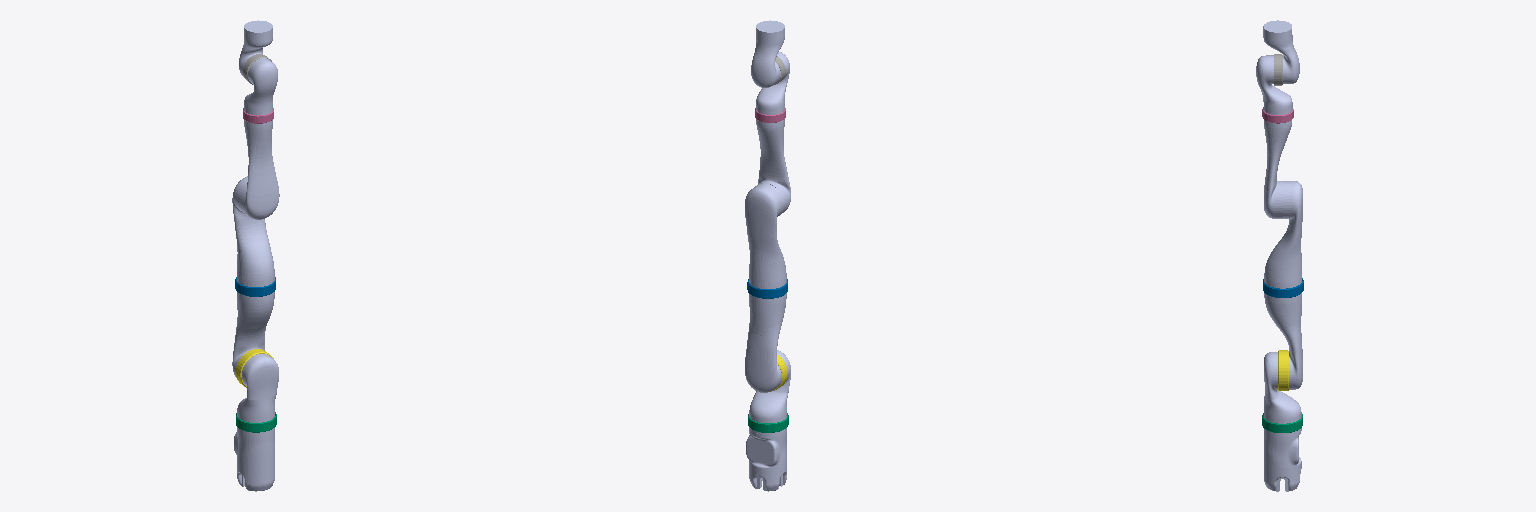
URDF robot description (j2s7s300_arm):
<?xml version="1.0"?>
<!-- =================================================================================== -->
<!-- |    This document is a hand edited version of the output                         | -->
<!-- |    autogenerated by xacro from j2s7s300_standalone.xacro                        | -->
<!-- =================================================================================== -->
<!-- j2s7s300 refers to jaco v2 7DOF spherical 3fingers -->
<robot name="j2s7s300_arm">
  <!-- Director seems to really want a link named "base", so this is
       renamed from "root" -->
  <link name="base">
    <visual>
      <origin rpy="0 0 0" xyz="0 0 0"/>
      <geometry>
        <sphere radius="0"/>
      </geometry>
      <!--<material name="Black" /> -->
    </visual>
    <collision>
      <origin rpy="0 0 0" xyz="0 0 0"/>
      <geometry>
        <sphere radius="0"/>
      </geometry>
    </collision>
  </link>
  <link name="j2s7s300_link_base">
    <visual>
      <geometry>
        <mesh filename="package://drake/manipulation/models/jaco_description/meshes/base.obj"/>
      </geometry>
      <material name="carbon_fiber">
        <color rgba="0.792156862745098 0.819607843137255 0.933333333333333 1"/>
      </material>
    </visual>
    <collision>
      <origin rpy="0 0 0" xyz="0 0 0.05"/>
      <geometry>
        <sphere radius="0.045"/>
      </geometry>
    </collision>
    <collision>
      <origin rpy="0 0 0" xyz="0 0 0.08"/>
      <geometry>
        <sphere radius="0.045"/>
      </geometry>
    </collision>
    <collision>
      <origin rpy="0 0 0" xyz="0 0 0.11"/>
      <geometry>
        <sphere radius="0.045"/>
      </geometry>
    </collision>
    <collision>
      <origin rpy="0 0 0" xyz="0 0 0.14"/>
      <geometry>
        <sphere radius="0.045"/>
      </geometry>
    </collision>
    <collision>
      <origin rpy="0 0 0" xyz="0 0 0.17"/>
      <geometry>
        <sphere radius="0.045"/>
      </geometry>
    </collision>
    <inertial>
      <mass value="0.46784"/>
      <origin rpy="0 0 0" xyz="0 0 0.1255"/>
      <inertia ixx="0.000951270861568" ixy="0" ixz="0" iyy="0.000951270861568" iyz="0" izz="0.000374272"/>
    </inertial>
  </link>
  <joint name="j2s7s300_joint_base" type="fixed">
    <parent link="base"/>
    <child link="j2s7s300_link_base"/>
    <axis xyz="0 0 0"/>
    <limit effort="2000" lower="0" upper="0" velocity="1"/>
    <origin rpy="0 0 0" xyz="0 0 0"/>
    <dynamics damping="0.0" friction="0.0"/>
  </joint>
  <link name="j2s7s300_link_1">
    <visual>
      <geometry>
        <mesh filename="package://drake/manipulation/models/jaco_description/meshes/shoulder.obj"/>
      </geometry>
      <material name="carbon_fiber">
        <color rgba="0.792156862745098 0.819607843137255 0.933333333333333 1"/>
      </material>
    </visual>
    <visual>
      <geometry>
        <mesh filename="package://drake/manipulation/models/jaco_description/meshes/ring_big.obj"/>
      </geometry>
    </visual>
    <collision>
      <origin rpy="0 0 0" xyz="0.0 -0.025 -0.14"/>
      <geometry>
        <sphere radius="0.02"/>
      </geometry>
    </collision>
    <collision>
      <origin rpy="0 0 0" xyz="0.025 -0.025 -0.12"/>
      <geometry>
        <sphere radius="0.02"/>
      </geometry>
    </collision>
    <collision>
      <origin rpy="0 0 0" xyz="-0.025 -0.025 -0.12"/>
      <geometry>
        <sphere radius="0.02"/>
      </geometry>
    </collision>
    <collision>
      <origin rpy="0 0 0" xyz="0 0 -0.12"/>
      <geometry>
        <sphere radius="0.045"/>
      </geometry>
    </collision>
    <collision>
      <origin rpy="0 0 0" xyz="-0.02 -0.02 -0.05"/>
      <geometry>
        <sphere radius="0.02"/>
      </geometry>
    </collision>
    <collision>
      <origin rpy="0 0 0" xyz="0.0 -0.025 -0.05"/>
      <geometry>
        <sphere radius="0.02"/>
      </geometry>
    </collision>
    <collision>
      <origin rpy="0 0 0" xyz="0.02 -0.02 -0.05"/>
      <geometry>
        <sphere radius="0.02"/>
      </geometry>
    </collision>
    <inertial>
      <mass value="0.7477"/>
      <origin xyz="0 -0.002 -0.0605"/>
      <inertia ixx="0.00152031725204" ixy="0" ixz="0" iyy="0.00152031725204" iyz="0" izz="0.00059816"/>
    </inertial>
  </link>
  <joint name="j2s7s300_joint_1" type="continuous">
    <parent link="j2s7s300_link_base"/>
    <child link="j2s7s300_link_1"/>
    <axis xyz="0 0 1"/>
    <!-- The upper and lower limits below are set based on the range of +/-
         10000 degrees listed in the "JACO2 Spherical 7 DOF Advanced
         specification guide" from Kinova.  The velocity limit is set from
         "Recommended maximum actuators utilization" in the same document. -->
    <limit effort="2000" lower="-174.532925" upper="174.532925" velocity="0.63"/>
    <origin rpy="0 3.14159265359 0" xyz="0 0 0.15675"/>
    <dynamics damping="0.0" friction="0.0"/>
  </joint>
  <transmission name="j2s7s300_joint_1_trans">
    <type>transmission_interface/SimpleTransmission</type>
    <joint name="j2s7s300_joint_1">
      <hardwareInterface>EffortJointInterface</hardwareInterface>
    </joint>
    <actuator name="j2s7s300_joint_1_actuator">
      <hardwareInterface>EffortJointInterface</hardwareInterface>
    </actuator>
  </transmission>
  <link name="j2s7s300_link_2">
    <visual>
      <geometry>
        <mesh filename="package://drake/manipulation/models/jaco_description/meshes/arm_half_1.obj"/>
      </geometry>
      <material name="carbon_fiber">
        <color rgba="0.792156862745098 0.819607843137255 0.933333333333333 1"/>
      </material>
    </visual>
    <visual>
      <geometry>
        <mesh filename="package://drake/manipulation/models/jaco_description/meshes/ring_big.obj"/>
      </geometry>
    </visual>
    <collision>
      <origin rpy="0 0 0" xyz="0.025 -0.00 -0.025"/>
      <geometry>
        <sphere radius="0.02"/>
      </geometry>
    </collision>
    <collision>
      <origin rpy="0 0 0" xyz="-0.025 -0.00 -0.025"/>
      <geometry>
        <sphere radius="0.02"/>
      </geometry>
    </collision>
    <collision>
      <origin rpy="0 0 0" xyz="0.02 -0.09 -0.02"/>
      <geometry>
        <sphere radius="0.02"/>
      </geometry>
    </collision>
    <collision>
      <origin rpy="0 0 0" xyz="-0.02 -0.09 -0.02"/>
      <geometry>
        <sphere radius="0.02"/>
      </geometry>
    </collision>
    <collision>
      <origin rpy="0 0 0" xyz="0.015 -0.11 -0.015"/>
      <geometry>
        <sphere radius="0.025"/>
      </geometry>
    </collision>
    <collision>
      <origin rpy="0 0 0" xyz="-0.015 -0.11 -0.015"/>
      <geometry>
        <sphere radius="0.025"/>
      </geometry>
    </collision>
    <collision>
      <origin rpy="0 0 0" xyz="0 -0.13 -0.01"/>
      <geometry>
        <sphere radius="0.035"/>
      </geometry>
    </collision>
    <collision>
      <origin rpy="0 0 0" xyz="0 -0.15 -0.005"/>
      <geometry>
        <sphere radius="0.04"/>
      </geometry>
    </collision>
    <collision>
      <origin rpy="0 0 0" xyz="0 -0.17 -0"/>
      <geometry>
        <sphere radius="0.045"/>
      </geometry>
    </collision>
    <collision>
      <origin rpy="0 0 0" xyz="0 -0.2 -0"/>
      <geometry>
        <sphere radius="0.045"/>
      </geometry>
    </collision>
    <inertial>
      <mass value="0.8447"/>
      <origin xyz="0 -0.103563213 0"/>
      <inertia ixx="0.00247073761701" ixy="0" ixz="0" iyy="0.000380115" iyz="0" izz="0.00247073761701"/>
    </inertial>
  </link>
  <joint name="j2s7s300_joint_2" type="revolute">
    <parent link="j2s7s300_link_1"/>
    <child link="j2s7s300_link_2"/>
    <axis xyz="0 0 1"/>
    <limit effort="2000" lower="0.523598775598" upper="5.75958653158" velocity="0.63"/>
    <origin rpy="-1.57079632679 0 3.14159265359" xyz="0 0.0016 -0.11875"/>
    <dynamics damping="0.0" friction="0.0"/>
  </joint>
  <transmission name="j2s7s300_joint_2_trans">
    <type>transmission_interface/SimpleTransmission</type>
    <joint name="j2s7s300_joint_2">
      <hardwareInterface>EffortJointInterface</hardwareInterface>
    </joint>
    <actuator name="j2s7s300_joint_2_actuator">
      <hardwareInterface>EffortJointInterface</hardwareInterface>
    </actuator>
  </transmission>
  <link name="j2s7s300_link_3">
    <visual>
      <geometry>
        <mesh filename="package://drake/manipulation/models/jaco_description/meshes/arm_half_2.obj"/>
      </geometry>
      <material name="carbon_fiber">
        <color rgba="0.792156862745098 0.819607843137255 0.933333333333333 1"/>
      </material>
    </visual>
    <visual>
      <geometry>
        <mesh filename="package://drake/manipulation/models/jaco_description/meshes/ring_big.obj"/>
      </geometry>
    </visual>
    <collision>
      <origin rpy="0 0 0" xyz="0.0 0.028 -0.232"/>
      <geometry>
        <sphere radius="0.015"/>
      </geometry>
    </collision>
    <collision>
      <origin rpy="0 0 0" xyz="0.03 0.03 -0.20"/>
      <geometry>
        <sphere radius="0.015"/>
      </geometry>
    </collision>
    <collision>
      <origin rpy="0 0 0" xyz="-0.03 0.03 -0.20"/>
      <geometry>
        <sphere radius="0.015"/>
      </geometry>
    </collision>
    <collision>
      <origin rpy="0 0 0" xyz="0.025 0.025 -0.13"/>
      <geometry>
        <sphere radius="0.015"/>
      </geometry>
    </collision>
    <collision>
      <origin rpy="0 0 0" xyz="-0.025 0.025 -0.13"/>
      <geometry>
        <sphere radius="0.015"/>
      </geometry>
    </collision>
    <collision>
      <origin rpy="0 0 0" xyz="0.02 0.02 -0.11"/>
      <geometry>
        <sphere radius="0.02"/>
      </geometry>
    </collision>
    <collision>
      <origin rpy="0 0 0" xyz="-0.02 0.02 -0.11"/>
      <geometry>
        <sphere radius="0.02"/>
      </geometry>
    </collision>
    <collision>
      <origin rpy="0 0 0" xyz="0.01 0.01 -0.08"/>
      <geometry>
        <sphere radius="0.03"/>
      </geometry>
    </collision>
    <collision>
      <origin rpy="0 0 0" xyz="-0.01 0.01 -0.08"/>
      <geometry>
        <sphere radius="0.03"/>
      </geometry>
    </collision>
    <collision>
      <origin rpy="0 0 0" xyz="0 0.0 -0.02"/>
      <geometry>
        <sphere radius="0.045"/>
      </geometry>
    </collision>
    <collision>
      <origin rpy="0 0 0" xyz="0 0.0 -0.05"/>
      <geometry>
        <sphere radius="0.045"/>
      </geometry>
    </collision>
    <inertial>
      <mass value="0.8447"/>
      <origin xyz="0 0 -0.1022447445"/>
      <inertia ixx="0.00247073761701" ixy="0" ixz="0" iyy="0.00247073761701" iyz="0" izz="0.000380115"/>
    </inertial>
  </link>
  <joint name="j2s7s300_joint_3" type="continuous">
    <parent link="j2s7s300_link_2"/>
    <child link="j2s7s300_link_3"/>
    <axis xyz="0 0 1"/>
    <limit effort="2000" lower="-174.532925" upper="174.532925" velocity="0.63"/>
    <origin rpy="-1.57079632679 0 0" xyz="0 -0.205 0"/>
    <dynamics damping="0.0" friction="0.0"/>
  </joint>
  <transmission name="j2s7s300_joint_3_trans">
    <type>transmission_interface/SimpleTransmission</type>
    <joint name="j2s7s300_joint_3">
      <hardwareInterface>EffortJointInterface</hardwareInterface>
    </joint>
    <actuator name="j2s7s300_joint_3_actuator">
      <hardwareInterface>EffortJointInterface</hardwareInterface>
    </actuator>
  </transmission>
  <link name="j2s7s300_link_4">
    <visual>
      <geometry>
        <mesh filename="package://drake/manipulation/models/jaco_description/meshes/forearm.obj"/>
      </geometry>
      <material name="carbon_fiber">
        <color rgba="0.792156862745098 0.819607843137255 0.933333333333333 1"/>
      </material>
    </visual>
    <visual>
      <geometry>
        <mesh filename="package://drake/manipulation/models/jaco_description/meshes/ring_small.obj"/>
      </geometry>
    </visual>
    <collision>
      <origin rpy="0 0 0" xyz="0 0.0 -0.0"/>
      <geometry>
        <sphere radius="0.045"/>
      </geometry>
    </collision>
    <collision>
      <origin rpy="0 0 0" xyz="0.03 0.0 -0.03"/>
      <geometry>
        <sphere radius="0.015"/>
      </geometry>
    </collision>
    <collision>
      <origin rpy="0 0 0" xyz="-0.03 0.0 -0.03"/>
      <geometry>
        <sphere radius="0.015"/>
      </geometry>
    </collision>
    <collision>
      <origin rpy="0 0 0" xyz="0.015 0.09 -0.02"/>
      <geometry>
        <sphere radius="0.015"/>
      </geometry>
    </collision>
    <collision>
      <origin rpy="0 0 0" xyz="-0.015 0.09 -0.02"/>
      <geometry>
        <sphere radius="0.015"/>
      </geometry>
    </collision>
    <collision>
      <origin rpy="0 0 0" xyz="0.015 0.11 -0.02"/>
      <geometry>
        <sphere radius="0.015"/>
      </geometry>
    </collision>
    <collision>
      <origin rpy="0 0 0" xyz="-0.015 0.11 -0.02"/>
      <geometry>
        <sphere radius="0.015"/>
      </geometry>
    </collision>
    <collision>
      <origin rpy="0 0 0" xyz="0.015 0.13 -0.02"/>
      <geometry>
        <sphere radius="0.015"/>
      </geometry>
    </collision>
    <collision>
      <origin rpy="0 0 0" xyz="-0.015 0.13 -0.02"/>
      <geometry>
        <sphere radius="0.015"/>
      </geometry>
    </collision>
    <collision>
      <origin rpy="0 0 0" xyz="0 0.15 -0.0125"/>
      <geometry>
        <sphere radius="0.03"/>
      </geometry>
    </collision>
    <collision>
      <origin rpy="0 0 0" xyz="0 0.18 -0.0125"/>
      <geometry>
        <sphere radius="0.035"/>
      </geometry>
    </collision>
    <collision>
      <origin rpy="0 0 0" xyz="0 0.21 -0.0125"/>
      <geometry>
        <sphere radius="0.035"/>
      </geometry>
    </collision>
    <inertial>
      <mass value="0.6763"/>
      <origin xyz="0 0.081 -0.0086"/>
      <inertia ixx="0.00142022431908" ixy="0" ixz="0" iyy="0.000304335" iyz="0" izz="0.00142022431908"/>
    </inertial>
  </link>
  <joint name="j2s7s300_joint_4" type="revolute">
    <parent link="j2s7s300_link_3"/>
    <child link="j2s7s300_link_4"/>
    <axis xyz="0 0 1"/>
    <limit effort="2000" lower="0.523598775598" upper="5.75958653158" velocity="0.63"/>
    <origin rpy="1.57079632679 0 3.14159265359" xyz="0 0 -0.205"/>
    <dynamics damping="0.0" friction="0.0"/>
  </joint>
  <transmission name="j2s7s300_joint_4_trans">
    <type>transmission_interface/SimpleTransmission</type>
    <joint name="j2s7s300_joint_4">
      <hardwareInterface>EffortJointInterface</hardwareInterface>
    </joint>
    <actuator name="j2s7s300_joint_4_actuator">
      <hardwareInterface>EffortJointInterface</hardwareInterface>
    </actuator>
  </transmission>
  <link name="j2s7s300_link_5">
    <visual>
      <geometry>
        <mesh filename="package://drake/manipulation/models/jaco_description/meshes/wrist_spherical_1.obj"/>
      </geometry>
      <material name="carbon_fiber">
        <color rgba="0.792156862745098 0.819607843137255 0.933333333333333 1"/>
      </material>
    </visual>
    <visual>
      <geometry>
        <mesh filename="package://drake/manipulation/models/jaco_description/meshes/ring_small.obj"/>
      </geometry>
    </visual>
    <collision>
      <origin rpy="0 0 0" xyz="0 0.0 -0.00"/>
      <geometry>
        <sphere radius="0.035"/>
      </geometry>
    </collision>
    <collision>
      <origin rpy="0 0 0" xyz="0 0.0 -0.025"/>
      <geometry>
        <sphere radius="0.0325"/>
      </geometry>
    </collision>
    <collision>
      <origin rpy="0 0 0" xyz="0 0.02 -0.105"/>
      <geometry>
        <sphere radius="0.035"/>
      </geometry>
    </collision>
    <inertial>
      <mass value="0.463"/>
      <origin xyz="0 0.0028848942 -0.0541932613"/>
      <inertia ixx="0.0004321316048" ixy="0" ixz="0" iyy="0.0004321316048" iyz="0" izz="9.26e-05"/>
    </inertial>
  </link>
  <joint name="j2s7s300_joint_5" type="continuous">
    <parent link="j2s7s300_link_4"/>
    <child link="j2s7s300_link_5"/>
    <axis xyz="0 0 1"/>
    <limit effort="2000" lower="-174.532925" upper="174.532925" velocity="0.85"/>
    <origin rpy="-1.57079632679 0 3.14159265359" xyz="0 0.2073 -0.0114"/>
    <dynamics damping="0.0" friction="0.0"/>
  </joint>
  <transmission name="j2s7s300_joint_5_trans">
    <type>transmission_interface/SimpleTransmission</type>
    <joint name="j2s7s300_joint_5">
      <hardwareInterface>EffortJointInterface</hardwareInterface>
    </joint>
    <actuator name="j2s7s300_joint_5_actuator">
      <hardwareInterface>EffortJointInterface</hardwareInterface>
    </actuator>
  </transmission>
  <link name="j2s7s300_link_6">
    <visual>
      <geometry>
        <mesh filename="package://drake/manipulation/models/jaco_description/meshes/wrist_spherical_2.obj"/>
      </geometry>
      <material name="carbon_fiber">
        <color rgba="0.792156862745098 0.819607843137255 0.933333333333333 1"/>
      </material>
    </visual>
    <visual>
      <geometry>
        <mesh filename="package://drake/manipulation/models/jaco_description/meshes/ring_small.obj"/>
      </geometry>
    </visual>
    <collision>
      <origin rpy="0 0 0" xyz="0 0.0 -0.02"/>
      <geometry>
        <sphere radius="0.035"/>
      </geometry>
    </collision>
    <collision>
      <origin rpy="0 0 0" xyz="0 0.085 -0.0"/>
      <geometry>
        <sphere radius="0.035"/>
      </geometry>
    </collision>
    <collision>
      <origin rpy="0 0 0" xyz="0 0.1 -0.0"/>
      <geometry>
        <sphere radius="0.035"/>
      </geometry>
    </collision>
    <inertial>
      <mass value="0.463"/>
      <origin xyz="0 0.0497208855 -0.0028562765"/>
      <inertia ixx="0.0004321316048" ixy="0" ixz="0" iyy="9.26e-05" iyz="0" izz="0.0004321316048"/>
    </inertial>
  </link>
  <joint name="j2s7s300_joint_6" type="revolute">
    <parent link="j2s7s300_link_5"/>
    <child link="j2s7s300_link_6"/>
    <axis xyz="0 0 1"/>
    <limit effort="2000" lower="0.523598775598" upper="5.75958653158" velocity="0.85"/>
    <origin rpy="1.57079632679 0 3.14159265359" xyz="0 0 -0.10375"/>
    <dynamics damping="0.0" friction="0.0"/>
  </joint>
  <transmission name="j2s7s300_joint_6_trans">
    <type>transmission_interface/SimpleTransmission</type>
    <joint name="j2s7s300_joint_6">
      <hardwareInterface>EffortJointInterface</hardwareInterface>
    </joint>
    <actuator name="j2s7s300_joint_6_actuator">
      <hardwareInterface>EffortJointInterface</hardwareInterface>
    </actuator>
  </transmission>
  <link name="j2s7s300_link_7">
    <inertial>
      <!-- TODO(sammy-tri) This inertial is bogus with the hand removed. -->
      <mass value="0.001"/>
      <origin xyz="0 0 -0.06"/>
      <inertia ixx="0.000001" ixy="0" ixz="0" iyy="0.000001" iyz="0" izz="0.000001"/>
    </inertial>
  </link>
  <joint name="j2s7s300_joint_7" type="continuous">
    <parent link="j2s7s300_link_6"/>
    <child link="j2s7s300_link_7"/>
    <axis xyz="0 0 1"/>
    <limit effort="2000" lower="-174.532925" upper="174.532925" velocity="0.85"/>
    <origin rpy="-1.57079632679 0 3.14159265359" xyz="0 0.10375 0"/>
    <dynamics damping="0.0" friction="0.0"/>
  </joint>
  <transmission name="j2s7s300_joint_7_trans">
    <type>transmission_interface/SimpleTransmission</type>
    <joint name="j2s7s300_joint_7">
      <hardwareInterface>EffortJointInterface</hardwareInterface>
    </joint>
    <actuator name="j2s7s300_joint_7_actuator">
      <hardwareInterface>EffortJointInterface</hardwareInterface>
    </actuator>
  </transmission>
</robot>

--- What the picture shows (computed from the rendered views, not written in the file) ---
The picture shows the robot from 3 angles, left to right: view 1: azimuth 30°, elevation 25°; view 2: azimuth 150°, elevation 25°; view 3: azimuth 270°, elevation 25°; orthographic projection.
Robot: j2s7s300_arm — 9 links, 8 joints (3 revolute, 4 continuous, 1 fixed); root link base; default pose: joints at zero except 3 at the middle of their limits (j2s7s300_joint_2 = 3.14, j2s7s300_joint_4 = 3.14, j2s7s300_joint_6 = 3.14).
Links seen in each view (by area): view 1: j2s7s300_link_3, j2s7s300_link_4, j2s7s300_link_1, j2s7s300_link_2, j2s7s300_link_base, j2s7s300_link_5, j2s7s300_link_6; view 2: j2s7s300_link_3, j2s7s300_link_2, j2s7s300_link_base, j2s7s300_link_4, j2s7s300_link_6, j2s7s300_link_1, j2s7s300_link_5; view 3: j2s7s300_link_3, j2s7s300_link_2, j2s7s300_link_base, j2s7s300_link_1, j2s7s300_link_4, j2s7s300_link_6, j2s7s300_link_5.
Boxes of the visible links, bbox=[...] form: j2s7s300_link_3: bbox=[232, 176, 275, 296]; j2s7s300_link_4: bbox=[239, 120, 279, 219]; j2s7s300_link_1: bbox=[236, 354, 278, 432]; j2s7s300_link_2: bbox=[232, 292, 274, 387]; j2s7s300_link_base: bbox=[234, 427, 274, 491]; j2s7s300_link_5: bbox=[243, 58, 277, 123]; j2s7s300_link_6: bbox=[239, 20, 272, 84]; j2s7s300_link_3: bbox=[745, 183, 787, 298]; j2s7s300_link_2: bbox=[745, 293, 787, 392]; j2s7s300_link_base: bbox=[746, 427, 786, 491]; j2s7s300_link_4: bbox=[756, 119, 790, 212]; j2s7s300_link_6: bbox=[751, 20, 785, 87]; j2s7s300_link_1: bbox=[748, 350, 790, 432]; j2s7s300_link_5: bbox=[755, 52, 789, 122]; j2s7s300_link_3: bbox=[1263, 181, 1303, 297]; j2s7s300_link_2: bbox=[1264, 293, 1302, 390]; j2s7s300_link_base: bbox=[1264, 428, 1301, 491]; j2s7s300_link_1: bbox=[1262, 352, 1302, 432]; j2s7s300_link_4: bbox=[1264, 120, 1291, 218]; j2s7s300_link_6: bbox=[1263, 20, 1299, 85]; j2s7s300_link_5: bbox=[1256, 55, 1293, 123].
Bounding box of the posed robot: 0.0889 × 0.1035 × 1.1 m (x, y, z).
13 mesh visuals loaded from 9 distinct referenced files (9 OBJ).
